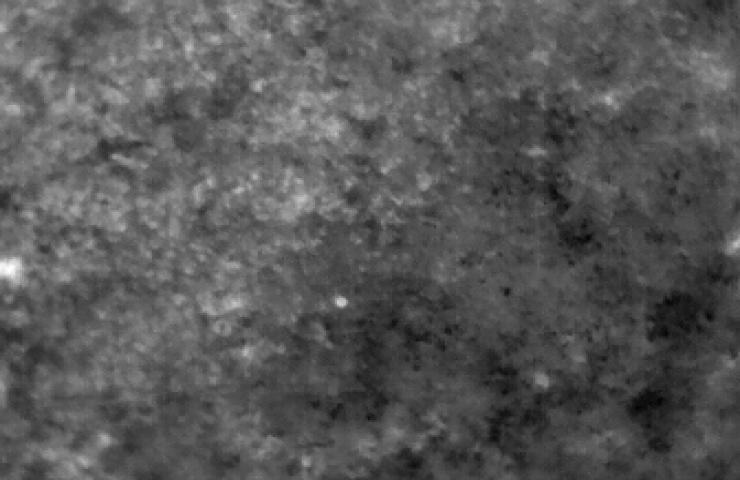landmines: (335, 297, 354, 314)
